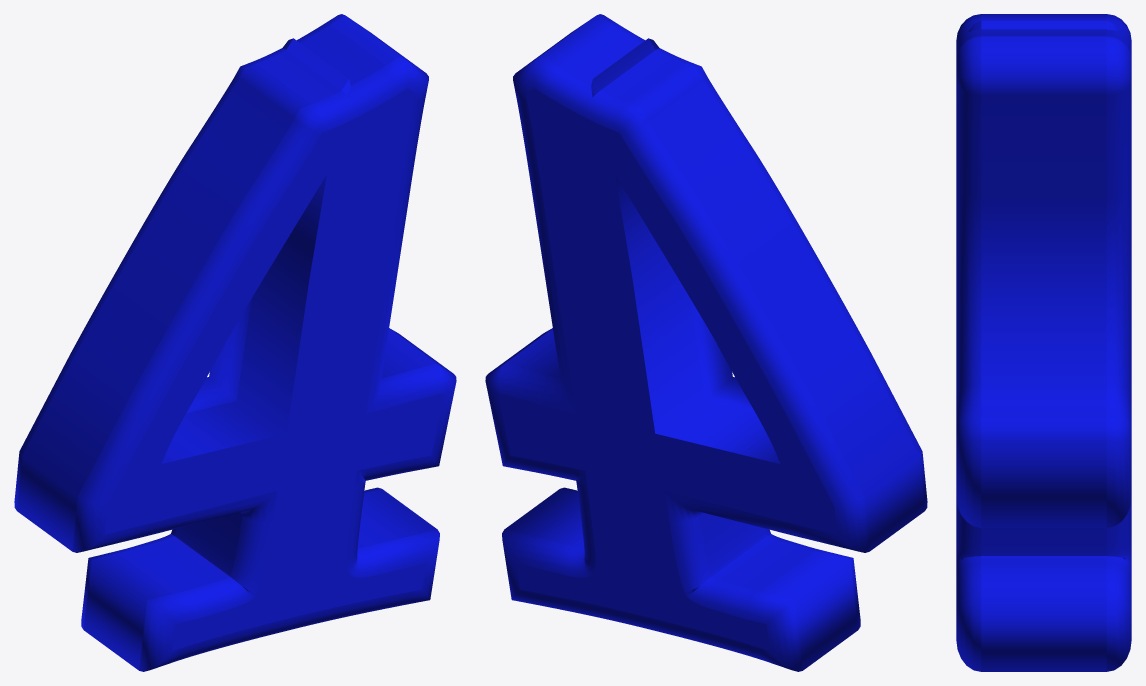
File: number_4.fbx
3 renders of one model, left to right at view 1: azimuth 30°, elevation 25°; view 2: azimuth 150°, elevation 25°; view 3: azimuth 270°, elevation 25°, orthographic. The views are drawn at different scales.
Parts seen in each view (by area): view 1: Text; view 2: Text; view 3: Text.
Boxes of the visible parts, left/top/right/bottom form: Text: left=14, top=14, right=456, bottom=671; Text: left=485, top=14, right=927, bottom=671; Text: left=956, top=14, right=1131, bottom=671.
Size of the model in its own units: 197 by 272 by 69.41.
